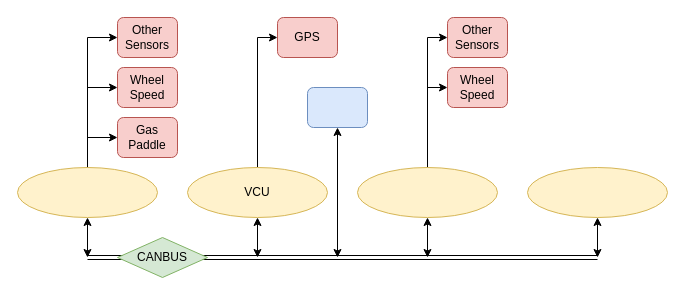
Some shapes in this 685 by 295 pixel diagram are drawn without their labels. Here are the shapes that lost their labels. From the top down, the centre of each, then its label:
the point at 337,107: IMU
the point at 87,192: Front Wheel Node
the point at 427,192: Rear Wheel Node
the point at 597,192: Motor Driver
